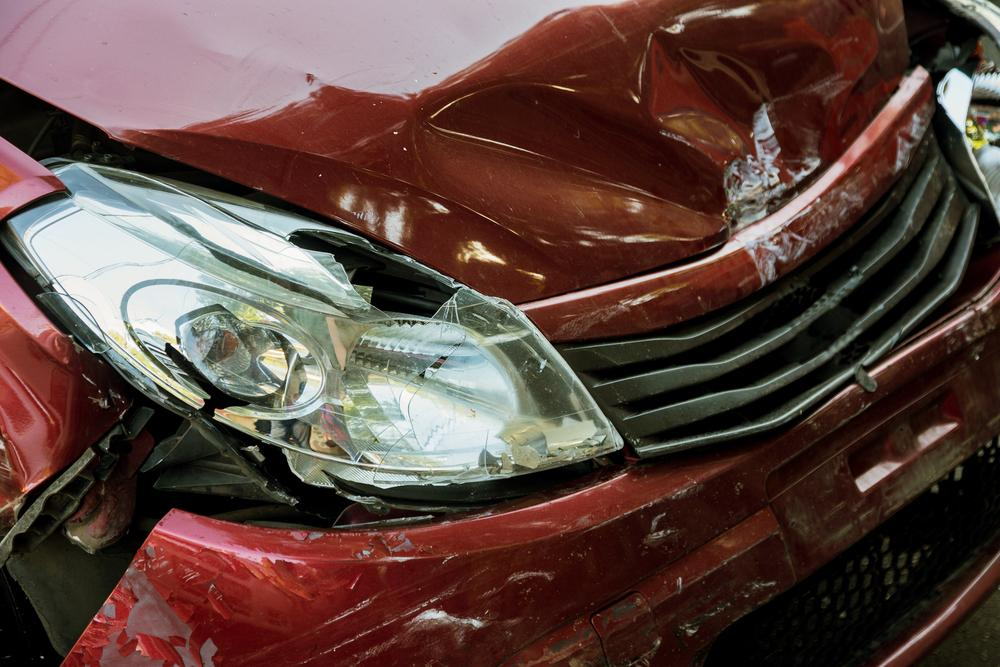dent: (408, 13, 834, 248)
lamp broken: (8, 160, 619, 498)
scratch: (56, 524, 573, 667), (731, 116, 924, 285)
